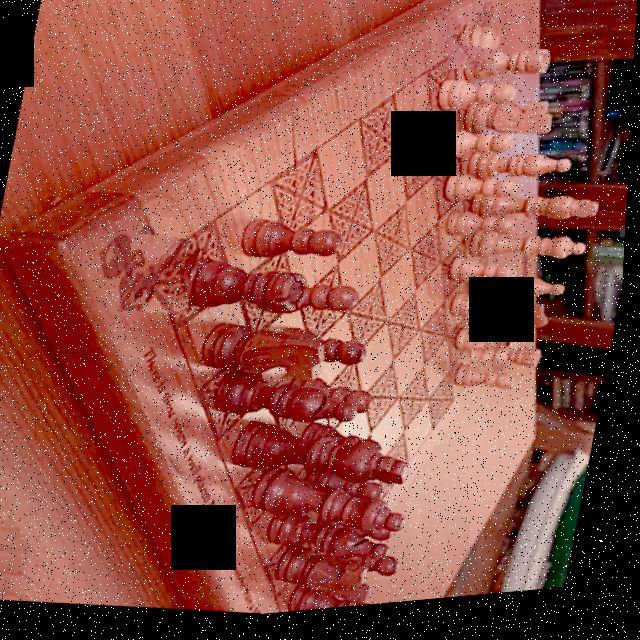chess-table-corners: (122, 231, 205, 322), (447, 28, 503, 84), (472, 329, 518, 386)
